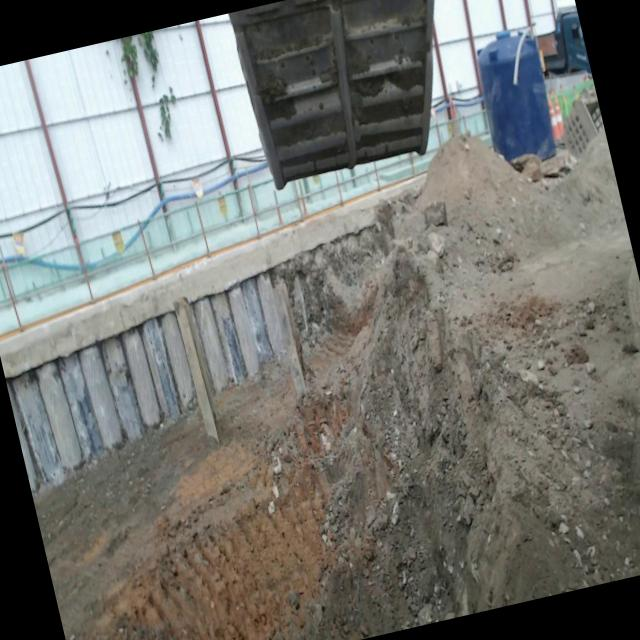red-sand: (33, 131, 640, 640)
